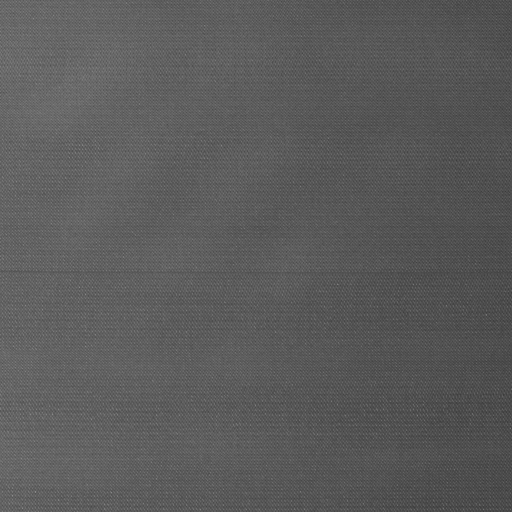defect: (1, 259, 512, 279)
